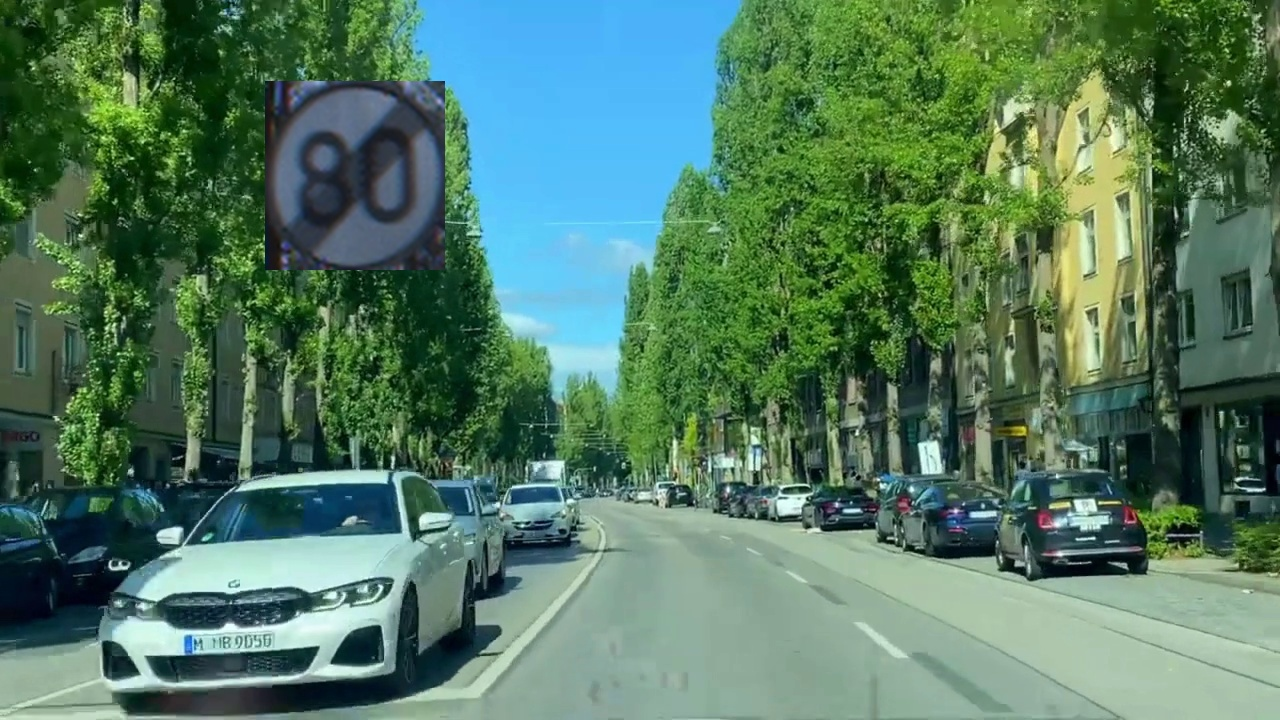End Speed 80: (265, 81, 445, 270)
